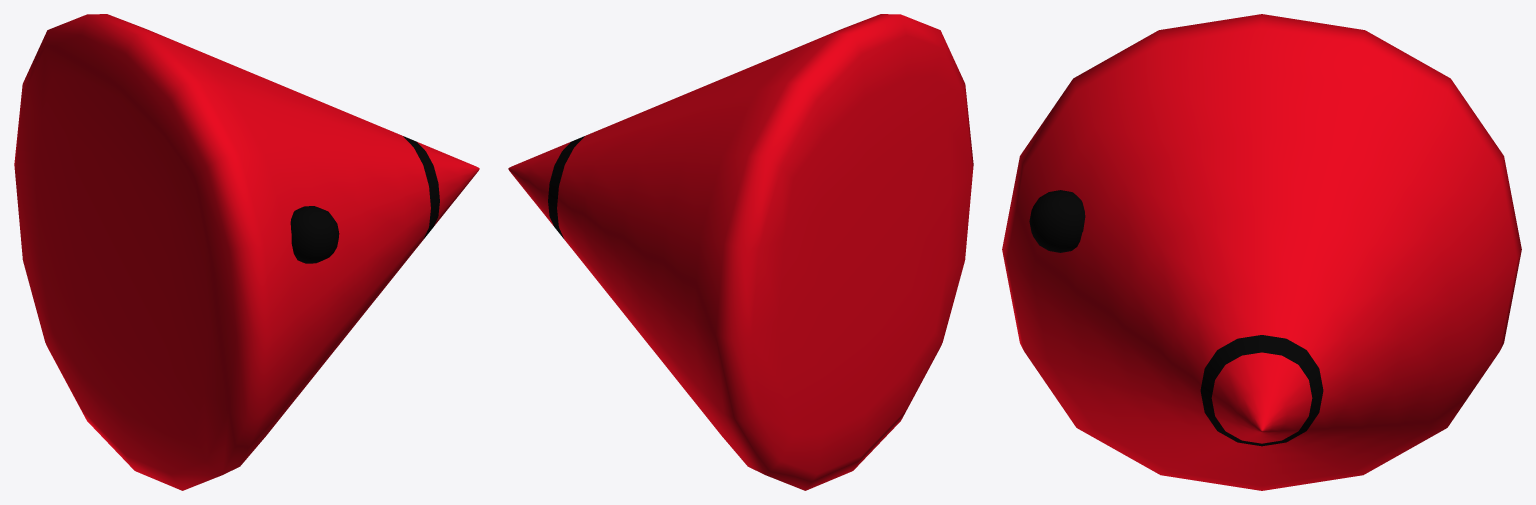
The model's file is PlayBtn.fbx.
The picture shows the model from 3 angles, left to right: view 1: azimuth 30°, elevation 25°; view 2: azimuth 150°, elevation 25°; view 3: azimuth 270°, elevation 25°; orthographic projection. The views are drawn at different scales.
Parts seen in each view (by area): view 1: Cube, Cube.001; view 2: Cube; view 3: Cube, Cube.001.
Boxes of the visible parts, left/top/right/bottom form: Cube: left=14, top=14, right=479, bottom=490; Cube.001: left=290, top=206, right=339, bottom=263; Cube: left=508, top=14, right=973, bottom=490; Cube: left=1002, top=14, right=1521, bottom=490; Cube.001: left=1029, top=190, right=1085, bottom=252.
Size of the model in its own units: 184 by 213 by 213.
